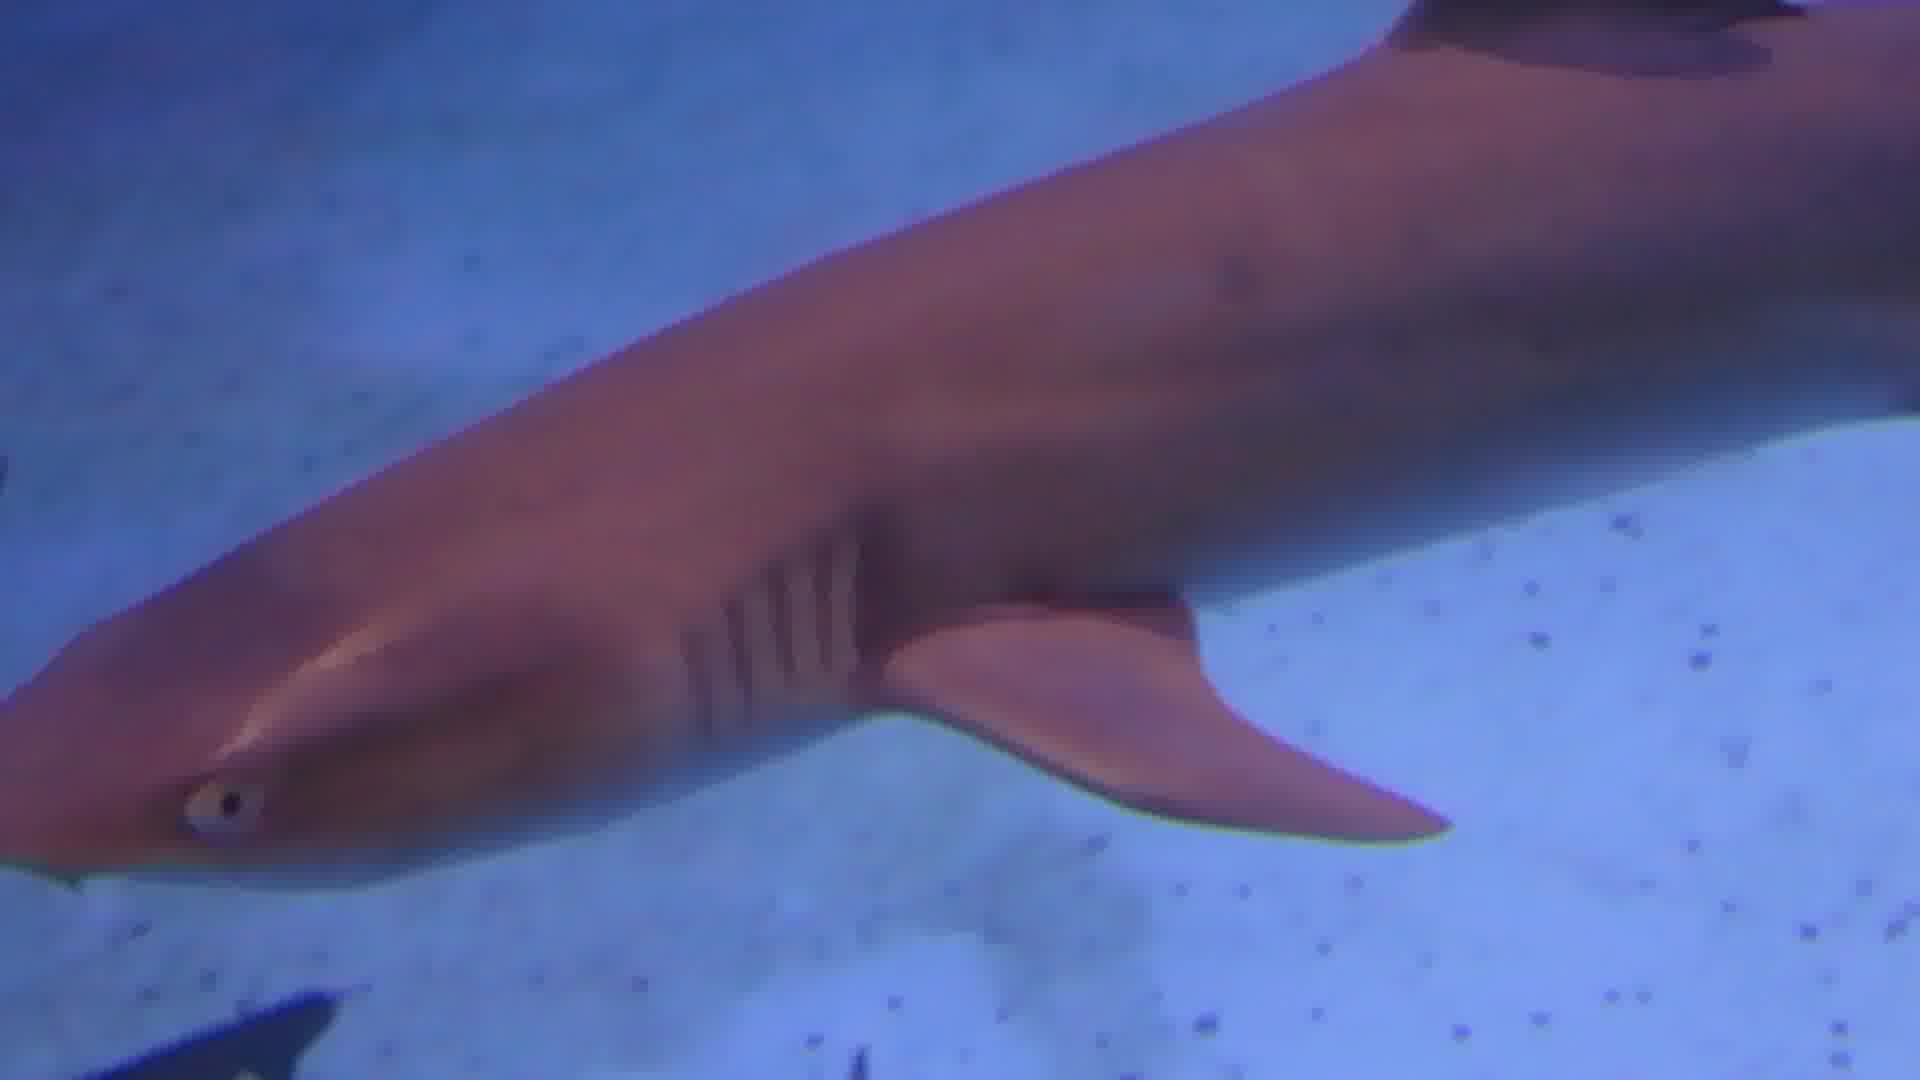Triaenodon obesus: (7, 7, 1920, 967)
